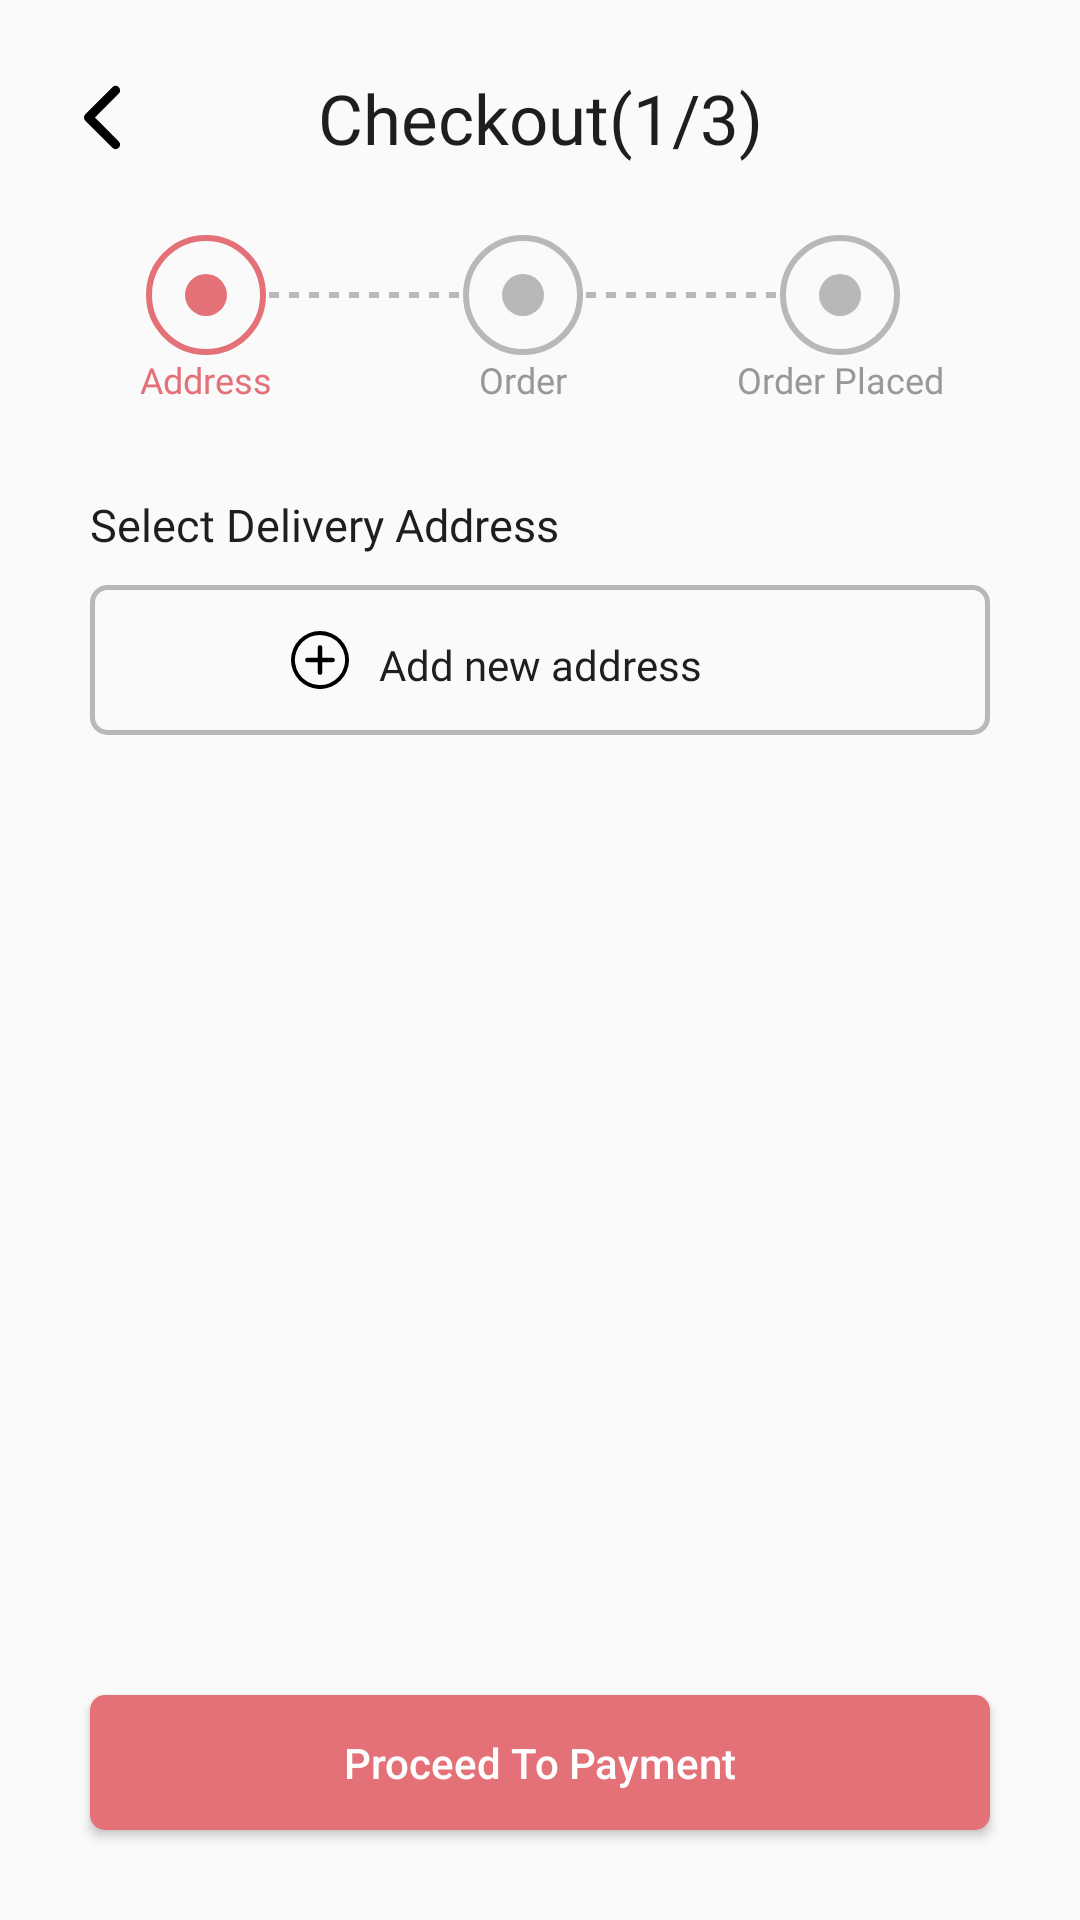

Screen size 1080 x 1920. Icon name, then its center in pixels as [x,y]:
back: [102,117]
circle: [206,295], [523,295], [840,295]
ionic add circle: [320,660]
